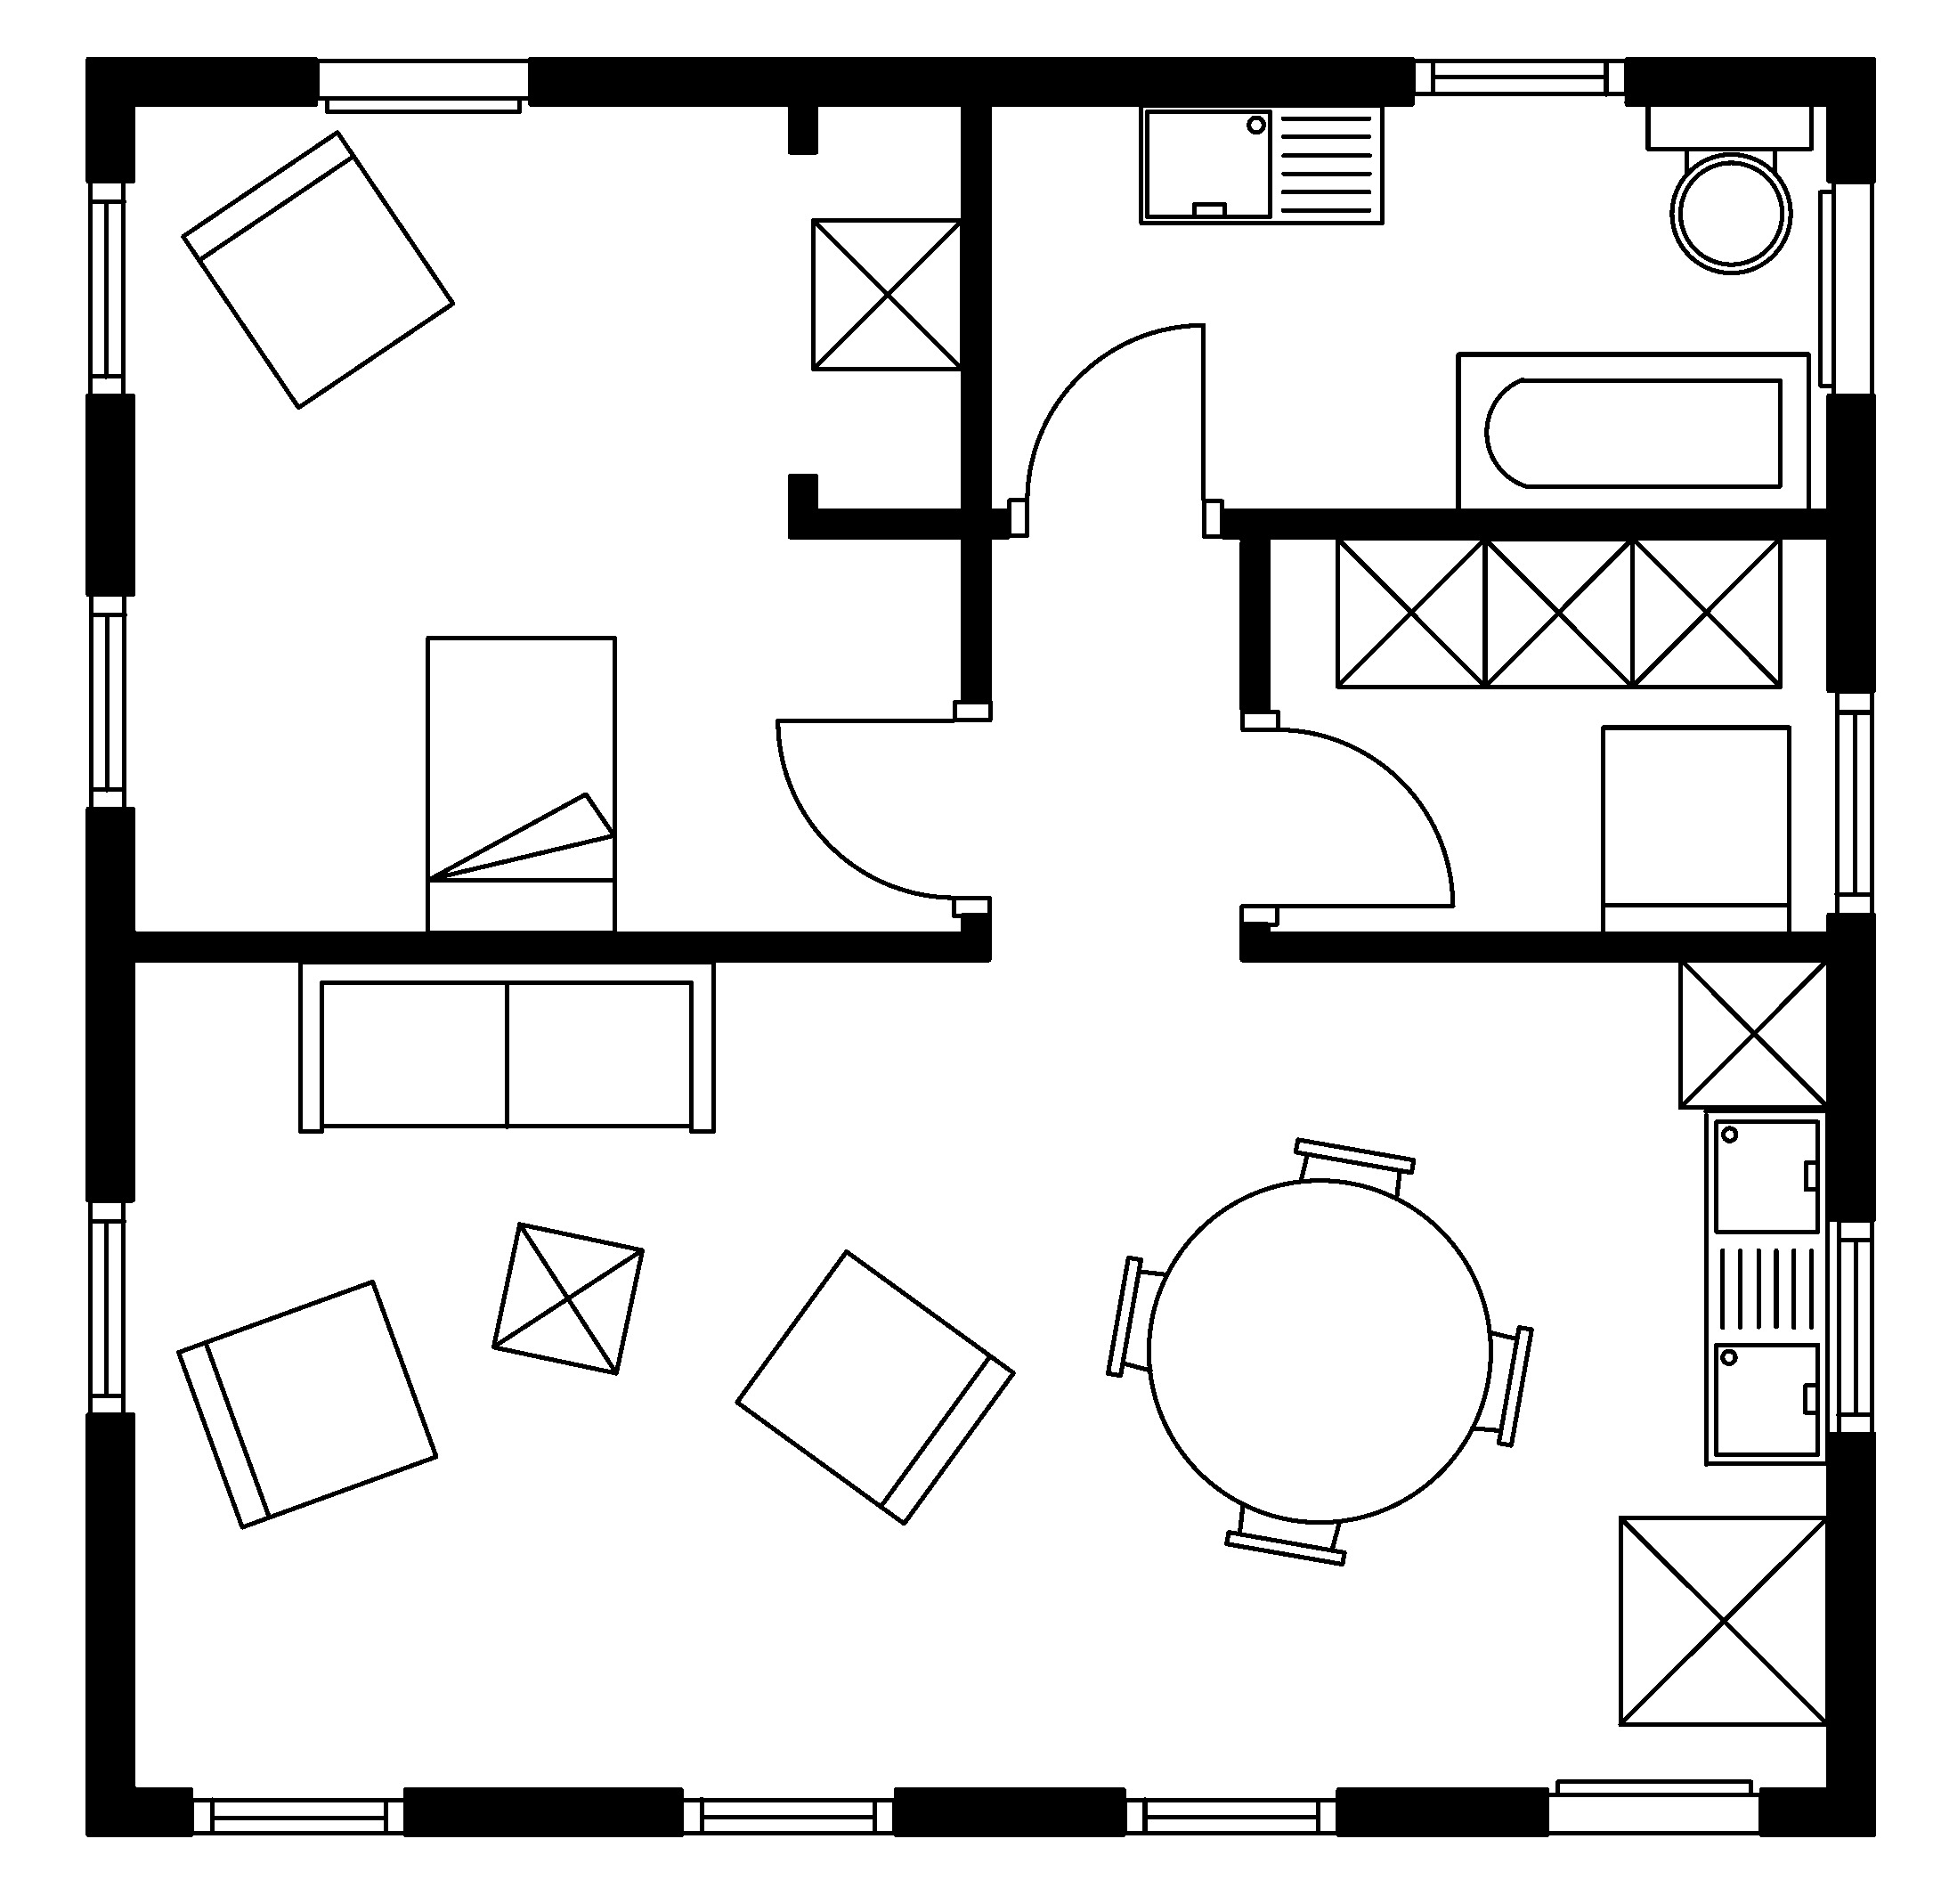basin: (1699, 1107, 1832, 1472), (1135, 101, 1389, 230)
bed: (422, 631, 622, 940)
door: (1007, 317, 1224, 542), (769, 703, 995, 915), (1241, 711, 1457, 928)
roundTable: (1102, 1133, 1541, 1574)
window: (188, 1792, 410, 1841), (1122, 1792, 1342, 1841), (84, 1194, 131, 1419), (678, 1792, 894, 1841), (1832, 687, 1877, 919), (84, 176, 131, 398), (1410, 54, 1624, 101), (85, 593, 131, 813), (1834, 1219, 1877, 1435)
